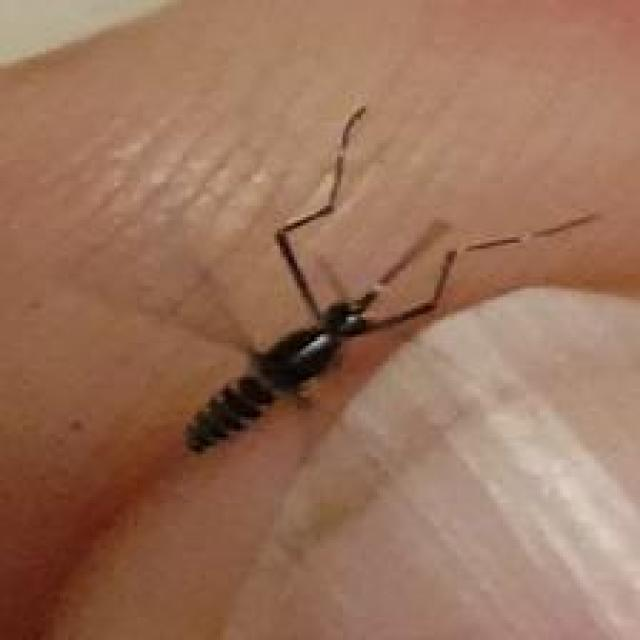Aedes albopictus: (180, 103, 597, 457)
